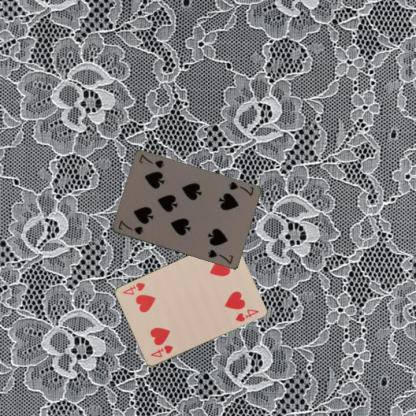4h: (148, 342, 174, 358)
7s: (226, 179, 255, 198), (116, 218, 144, 236)
